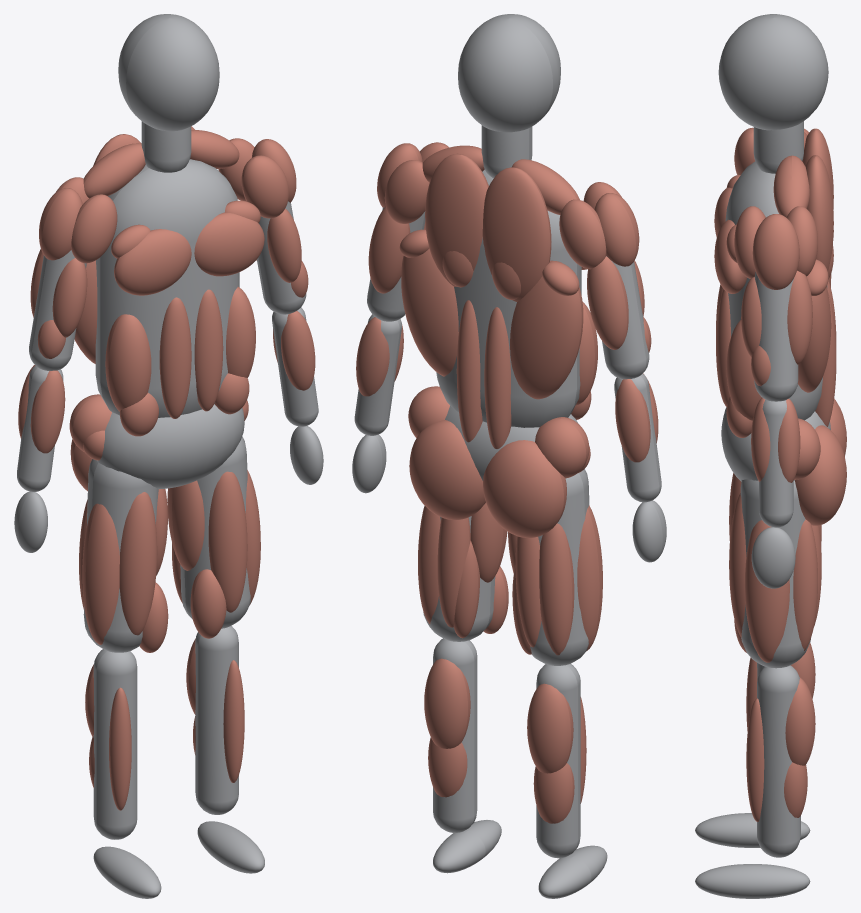
Rendered from pipeline-test-rig.glb.
The picture shows the model from 3 angles, left to right: view 1: azimuth 30°, elevation 25°; view 2: azimuth 150°, elevation 25°; view 3: azimuth 270°, elevation 25°; orthographic projection.
Parts seen in each view (by area): view 1: Body_Base_Torso, Body_Base_Head, Body_Base_Pelvis, Body_Base_Shin_L, Body_Base_Shin_R, Rectus_Femoris_R, Rectus_Femoris_L, Vastus_Lateralis_R, Body_Base_Thigh_R, Pectoralis_Major_R, External_Oblique_R, Pectoralis_Major_L (+38 smaller); view 2: Body_Base_Head, Body_Base_Torso, LatissimusDorsi_Right, Trapezius_R, Gluteus_Maximus_R, Trapezius_L, Gluteus_Maximus_L, LatissimusDorsi_Left, Body_Base_Shin_L, Body_Base_Shin_R, Biceps_Femoris_R, Body_Base_Thigh_R (+41 smaller); view 3: Body_Base_Head, Body_Base_Shin_L, Body_Base_UpperArm_L, Body_Base_Thigh_L, Vastus_Lateralis_L, Body_Base_Foot_L, Gluteus_Maximus_L, Body_Base_Torso, Deltoid_Lateral_L, Body_Base_Forearm_L, Biceps_Femoris_L, Body_Base_Hand_L (+32 smaller).
Part boxes in pixels (x1,y1,x2,y2): Body_Base_Torso: (95,159,239,417); Body_Base_Head: (118,14,219,131); Body_Base_Pelvis: (97,404,244,489); Body_Base_Shin_L: (195,626,238,814); Body_Base_Shin_R: (93,649,137,839); Rectus_Femoris_R: (119,492,157,635); Rectus_Femoris_L: (208,471,247,612); Vastus_Lateralis_R: (82,503,119,644); Body_Base_Thigh_R: (83,459,158,652); Pectoralis_Major_R: (114,229,191,295); External_Oblique_R: (105,314,151,411); Pectoralis_Major_L: (194,212,264,276); Body_Base_Head: (458,14,560,132); Body_Base_Torso: (436,169,581,427); LatissimusDorsi_Right: (510,260,583,399); Trapezius_R: (482,167,551,301); Gluteus_Maximus_R: (483,440,566,537); Trapezius_L: (425,153,488,286); Gluteus_Maximus_L: (409,420,485,520); LatissimusDorsi_Left: (401,248,458,376); Body_Base_Shin_L: (433,638,477,832); Body_Base_Shin_R: (536,663,580,858); Biceps_Femoris_R: (539,523,574,655); Body_Base_Thigh_R: (530,469,589,665); Body_Base_Head: (718,14,828,130); Body_Base_Shin_L: (757,665,800,857); Body_Base_UpperArm_L: (754,272,798,401); Body_Base_Thigh_L: (740,479,810,668); Vastus_Lateralis_L: (744,520,789,662); Body_Base_Foot_L: (695,864,810,898); Gluteus_Maximus_L: (795,425,846,525); Body_Base_Torso: (725,161,827,420); Deltoid_Lateral_L: (752,214,799,289); Body_Base_Forearm_L: (759,400,793,527); Biceps_Femoris_L: (793,519,817,650); Body_Base_Hand_L: (751,527,795,588).
Size of the model in its own units: 0.6668 by 1.8 by 0.29.
